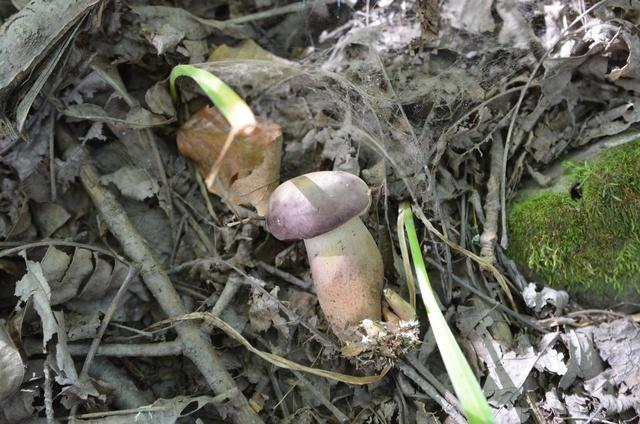poisonous_mushroom: (263, 168, 386, 354)
